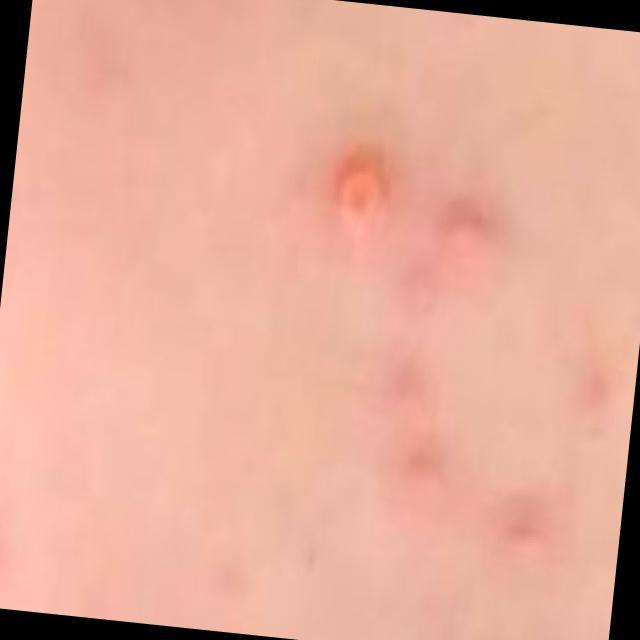Eczema: (322, 135, 603, 544)
